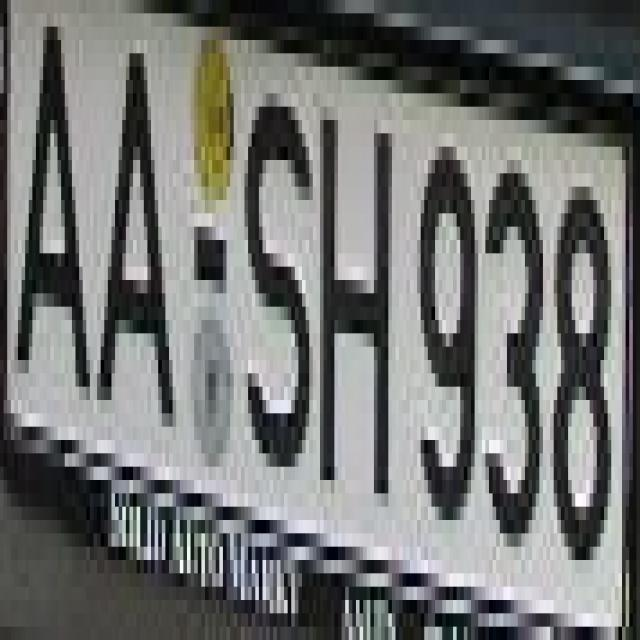3: (486, 186, 540, 546)
8: (550, 160, 608, 573)
9: (410, 120, 474, 520)
A: (7, 40, 97, 413), (97, 80, 173, 413)
H: (320, 80, 399, 480)
S: (237, 94, 302, 454)
